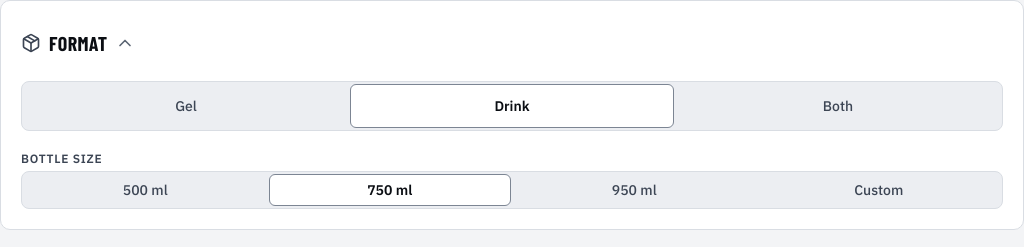
Test: FormatSection: layout › summarises {"format":{"type":"drink"}}
Step 1. Click the button "Format" → click(78, 43), box [17,21,140,65]
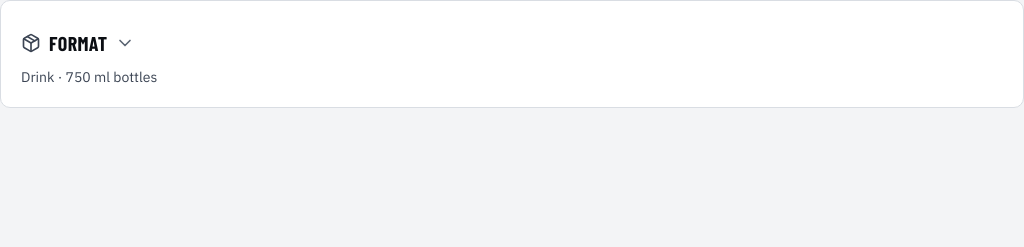
Expected: the text "Drink · 750 ml bottles" is shown, [21,68,157,86]
